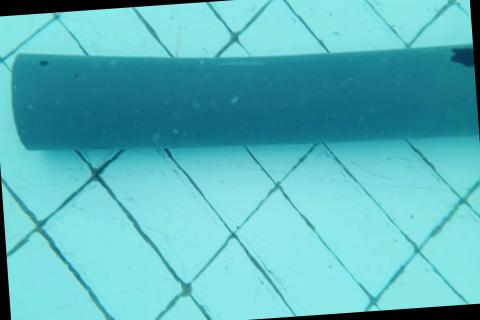kebocoran: (448, 44, 474, 70), (38, 58, 49, 66)
